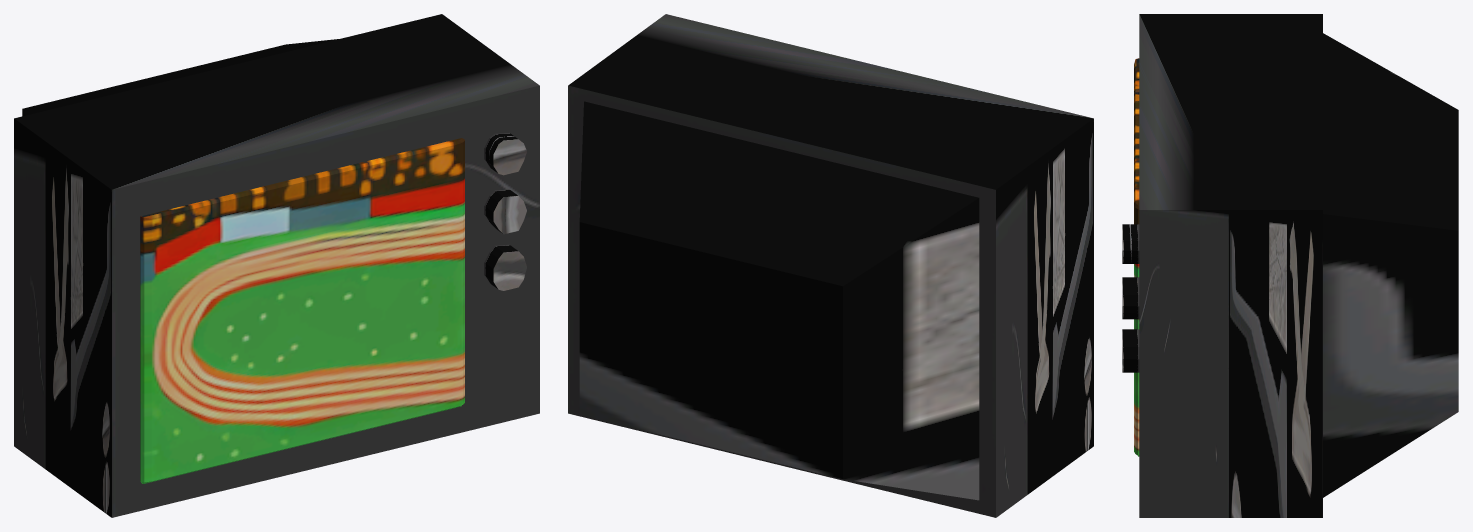
3 views of the same model, side by side, from view 1: azimuth 30°, elevation 25°; view 2: azimuth 150°, elevation 25°; view 3: azimuth 270°, elevation 25° (orthographic). The views are drawn at different scales.
Visible parts, largest first — view 1: TV4; view 2: TV4; view 3: TV4.
Part boxes in pixels (x1,y1,x2,y2): TV4: (14,14,539,517); TV4: (568,14,1093,517); TV4: (1122,14,1458,517).
Bounding box in the file's own units: 104 × 76.36 × 75.63.
1 material, 1 textured.
